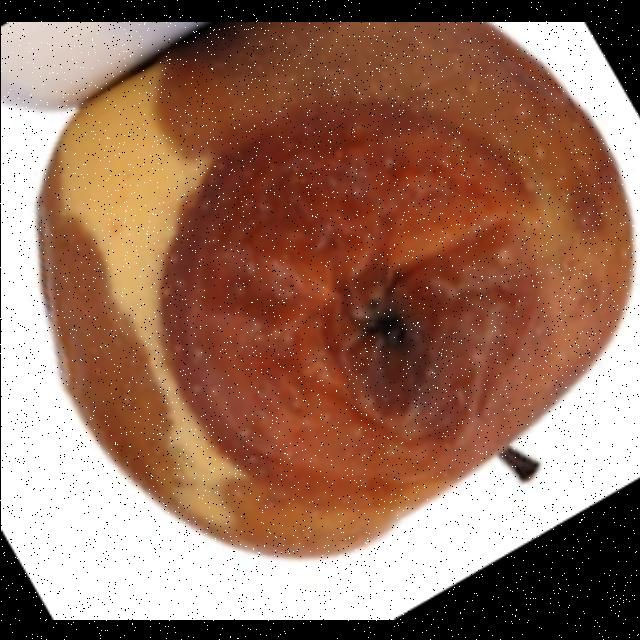Apel Tidak Segar: (40, 20, 616, 566)
